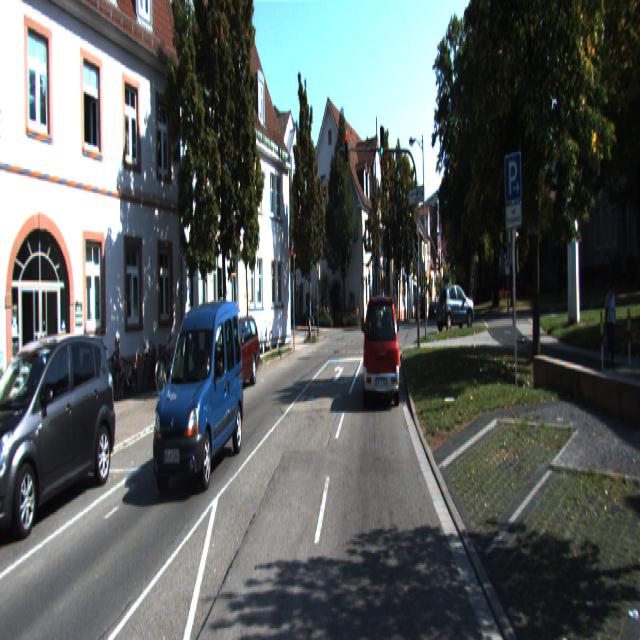Car: (0, 327, 117, 542), (150, 296, 246, 494), (204, 316, 261, 399), (364, 294, 401, 407), (436, 280, 475, 329)
